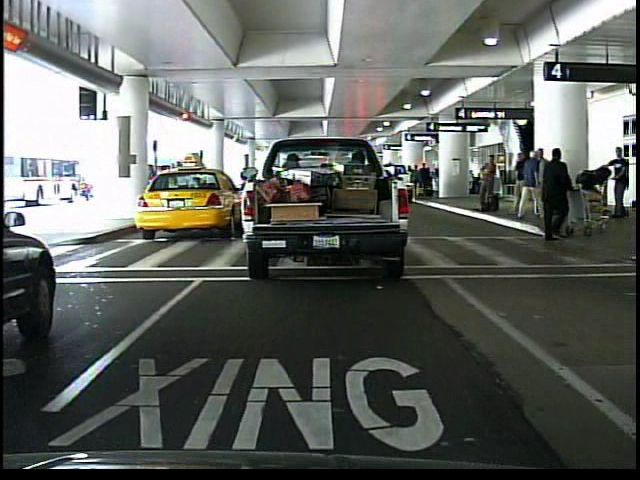person: (533, 149, 577, 243), (606, 144, 634, 222), (516, 146, 543, 226)
